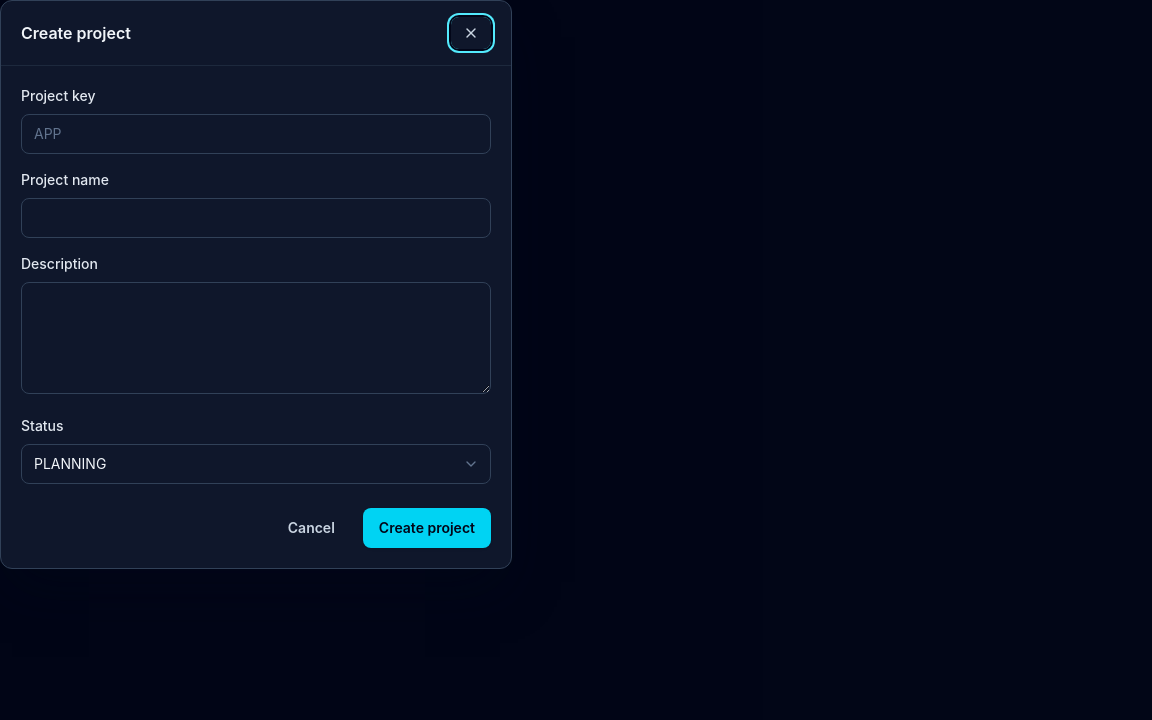
ProjectFormModal › shows validation errors without submitting
Click the button "Create project": (427, 528) [363,508,491,548]
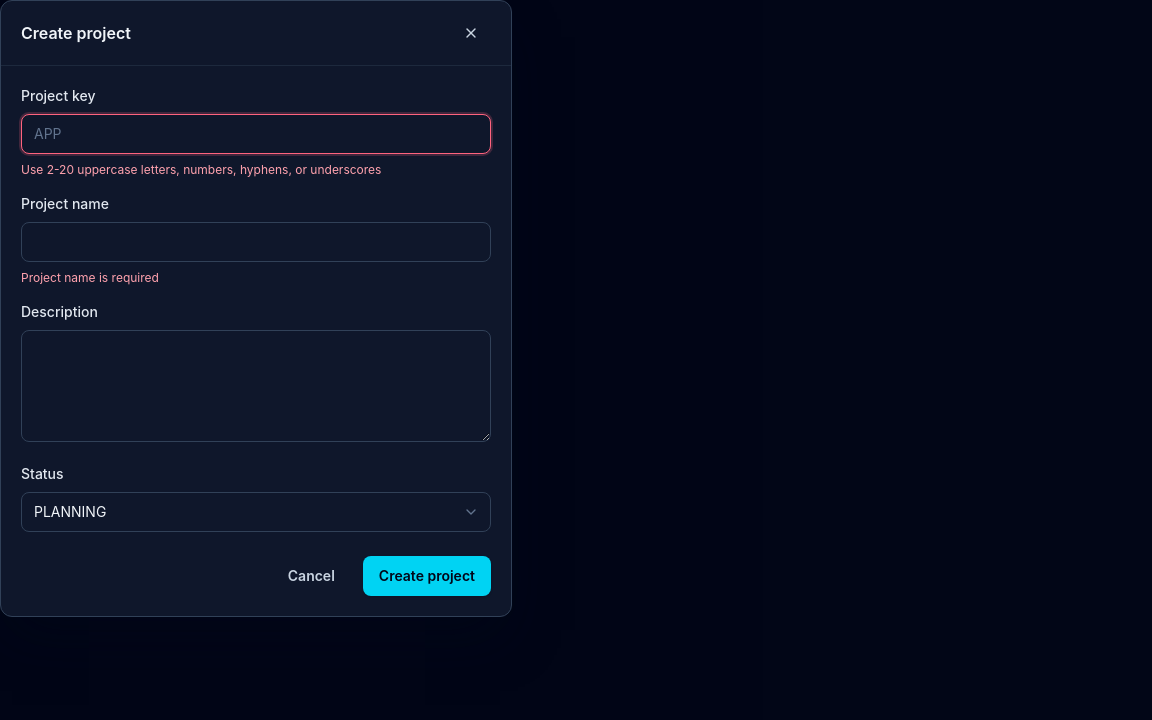
expect the text "Project name is required" is shown: met, box [21,270,159,285]
